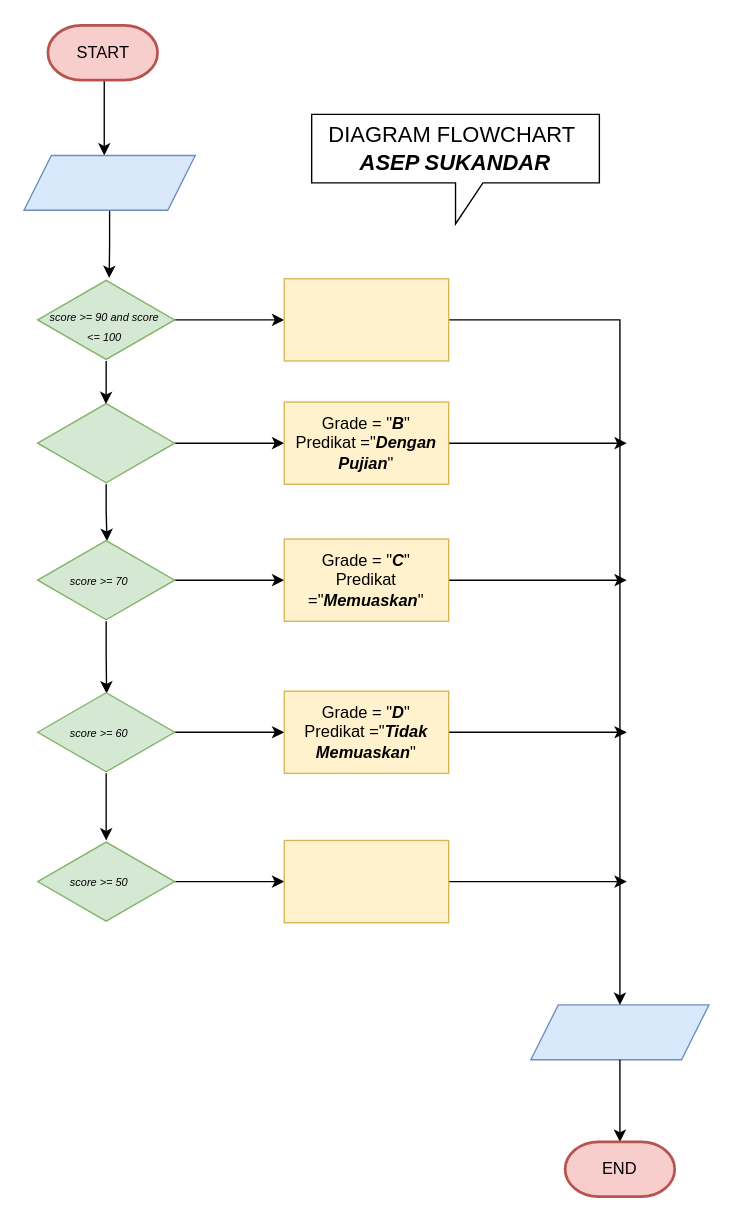
This 733x1221 diagram has some shape labels left out. The box of each missing label's shape, as (x1, y1, x2, y2) in pixels:
Grade = " A " Predikat =" Dengan Pujian ": (283, 277, 449, 361)
Grade = " E " Predikat =" Tidak Lulus ": (283, 839, 449, 923)
Input " Nama, Kelas, dan Score ": (23, 154, 195, 210)
Print " Nama, Kelas, dan Score ": (530, 1004, 709, 1060)
score >= 80: (36, 401, 175, 484)
